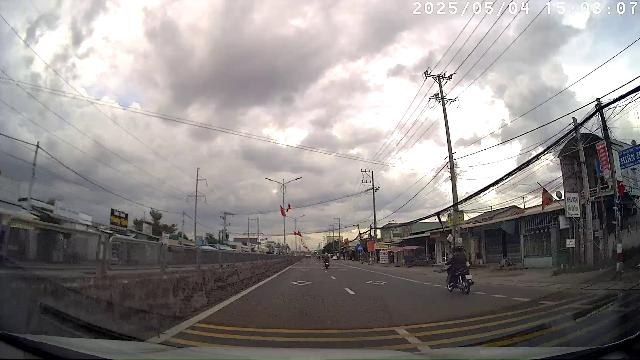423a-duong-nguoi-di-bo-sang-ngang-1: (357, 244, 363, 250)
